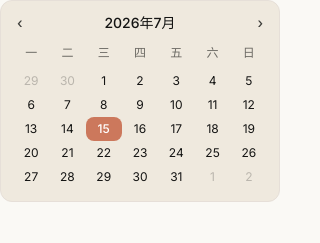
Test case: MiniCalendar 上下月翻页 › 点 › 显示下月
Click the button named "下个月".
click(260, 23)  # box [253,13,267,33]
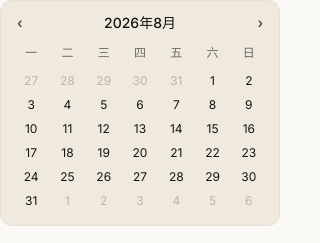
Result: the text "2026年8月" is shown at [104,13,176,33]
